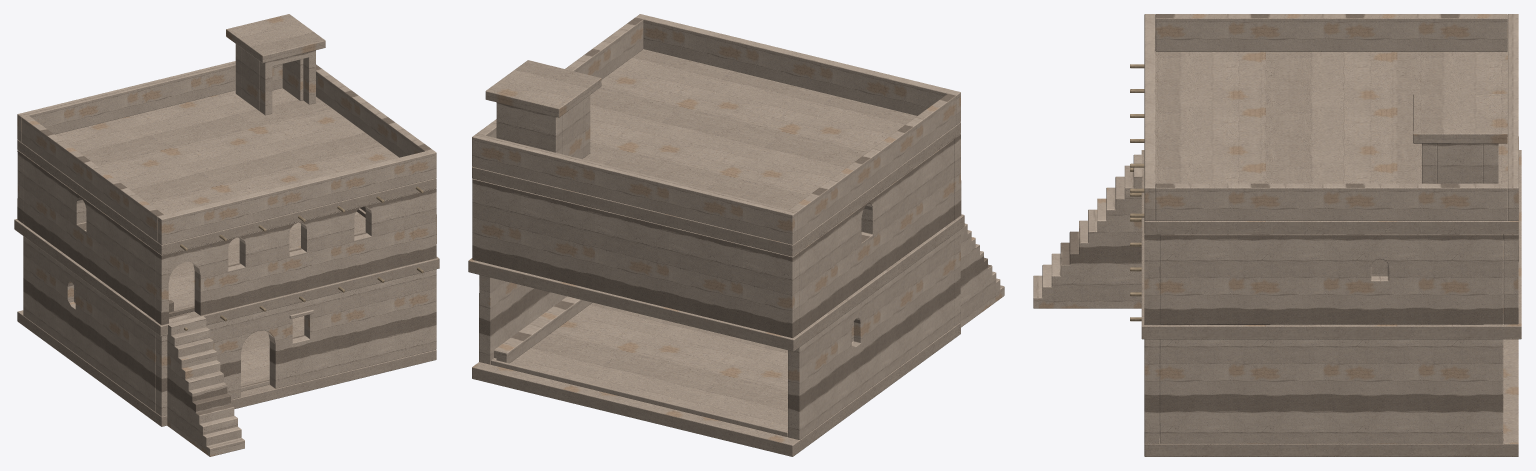
The model's file is house_9.glb.
3 views of the same model, side by side, from view 1: azimuth 30°, elevation 25°; view 2: azimuth 150°, elevation 25°; view 3: azimuth 270°, elevation 25° (orthographic). The views are drawn at different scales.
Parts seen in each view (by area): view 1: house; view 2: house; view 3: house.
Part boxes in pixels (<box>): house: <box>14,14,439,456</box>; house: <box>468,14,1004,456</box>; house: <box>1033,14,1521,456</box>.
Size of the model in its own units: 11.45 by 9.63 by 13.37.
Materials: 3 (3 with a texture image).
